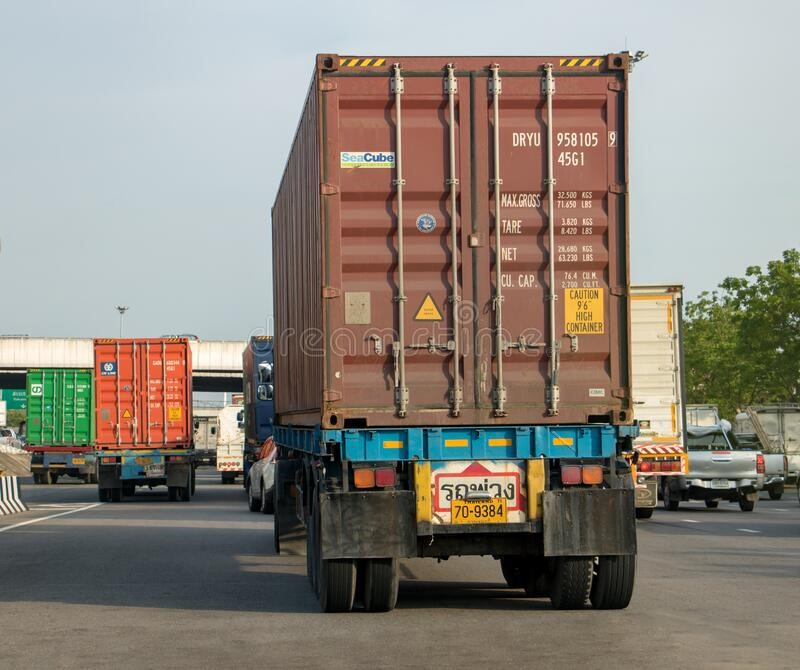HeavyVehicle: (95, 334, 197, 508), (24, 366, 94, 486)
